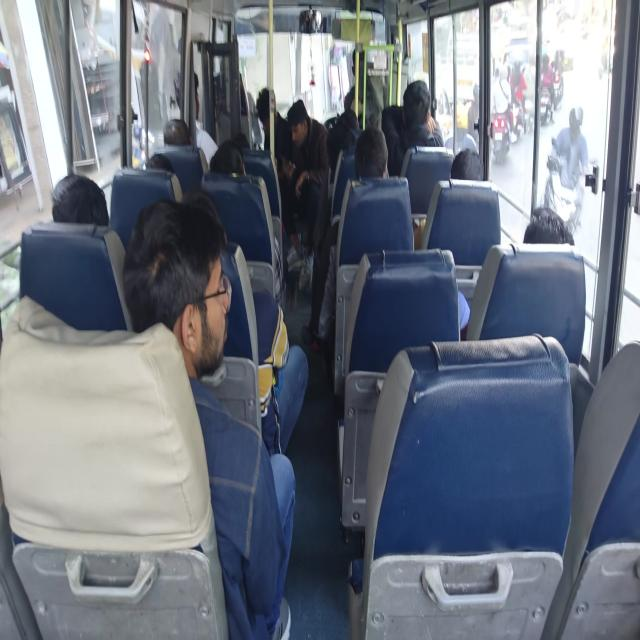person: (152, 238, 223, 350), (55, 172, 111, 230), (523, 204, 578, 242), (178, 196, 222, 236), (404, 78, 434, 132), (355, 132, 386, 180), (178, 75, 206, 116), (143, 150, 182, 177), (219, 148, 249, 178), (255, 94, 278, 132), (457, 147, 483, 180), (289, 108, 311, 147), (335, 113, 358, 147), (163, 120, 192, 146), (348, 45, 368, 79), (229, 132, 252, 150)
